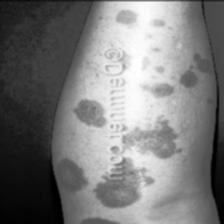Unclassified: (120, 120, 180, 160), (118, 6, 140, 26)
